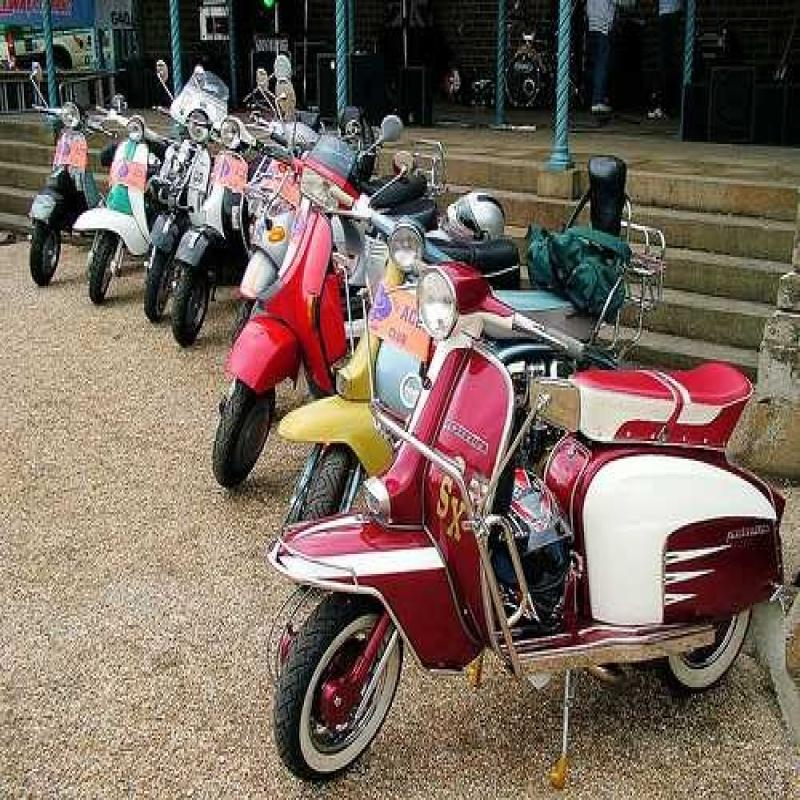bike: (338, 282, 770, 754), (317, 211, 503, 485), (166, 105, 252, 348), (21, 72, 100, 281), (93, 101, 158, 290), (160, 85, 214, 267)
